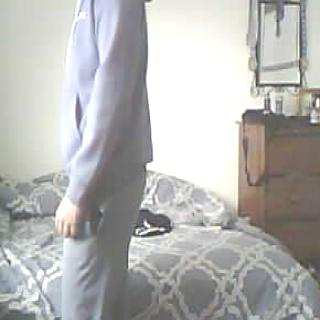Blue Hoodie: (55, 0, 158, 176)
Blue Sweatpants: (53, 163, 151, 320)
